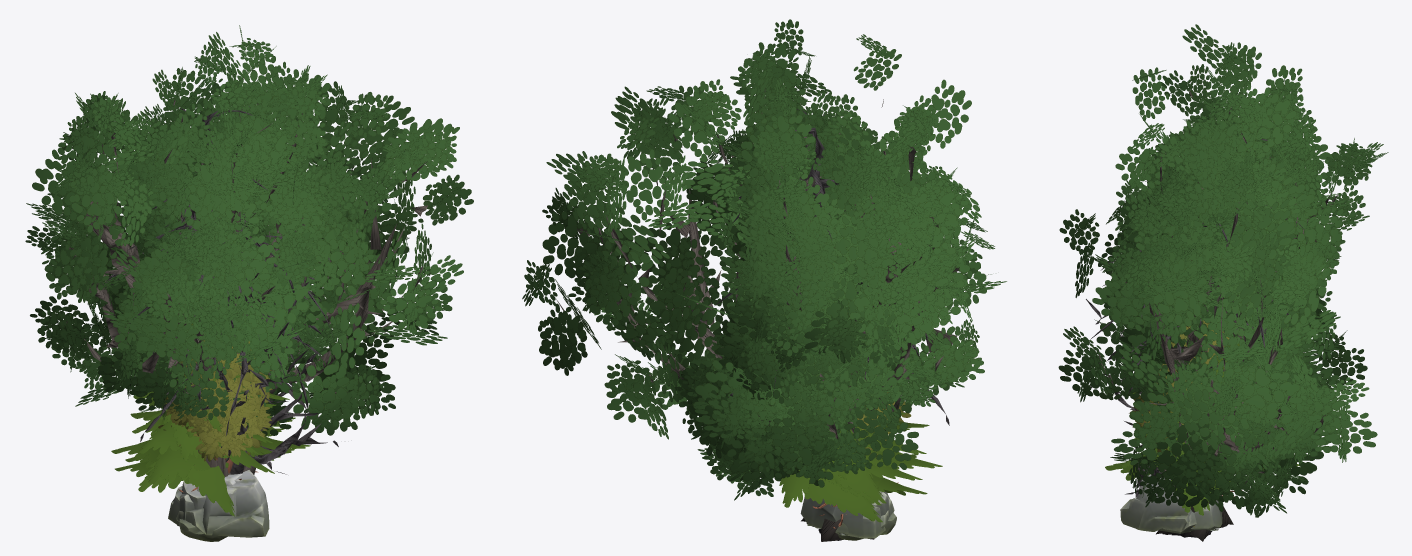
Rendered from kit_natura.glb.
3 renders of one model, left to right at view 1: azimuth 30°, elevation 25°; view 2: azimuth 150°, elevation 25°; view 3: azimuth 270°, elevation 25°, orthographic. The views are drawn at different scales.
Parts seen in each view (by area): view 1: TwistedTree_1, TwistedTree_2, TwistedTree_3, TwistedTree_4, TwistedTree_5, Pine_4, Rock_Medium_3, CommonTree_2, CommonTree_3, CommonTree_1, DeadTree_2, Pine_5 (+7 smaller); view 2: TwistedTree_1, TwistedTree_2, TwistedTree_4, TwistedTree_3, TwistedTree_5, Pine_5, Pine_4, Rock_Medium_2, DeadTree_5; view 3: TwistedTree_1, TwistedTree_3, TwistedTree_4, TwistedTree_2, TwistedTree_5, Rock_Medium_3, Rock_Medium_2.
Part boxes in pixels (<box>): TwistedTree_1: <box>141,61,473,525</box>; TwistedTree_2: <box>25,74,327,476</box>; TwistedTree_3: <box>51,95,395,474</box>; TwistedTree_4: <box>61,25,369,435</box>; TwistedTree_5: <box>87,99,359,362</box>; Pine_4: <box>111,323,295,492</box>; Rock_Medium_3: <box>179,470,269,541</box>; CommonTree_2: <box>164,361,271,473</box>; CommonTree_3: <box>177,340,272,438</box>; CommonTree_1: <box>158,370,271,461</box>; DeadTree_2: <box>179,273,327,474</box>; Pine_5: <box>115,375,310,492</box>; TwistedTree_1: <box>522,79,874,541</box>; TwistedTree_2: <box>715,19,1006,449</box>; TwistedTree_4: <box>690,42,940,485</box>; TwistedTree_3: <box>673,97,991,500</box>; TwistedTree_5: <box>693,113,918,526</box>; Pine_5: <box>779,430,927,522</box>; Pine_4: <box>822,390,942,528</box>; Rock_Medium_2: <box>800,491,885,538</box>; DeadTree_5: <box>700,105,949,425</box>; TwistedTree_1: <box>1058,151,1377,541</box>; TwistedTree_3: <box>1059,127,1369,537</box>; TwistedTree_4: <box>1079,64,1388,533</box>; TwistedTree_2: <box>1100,24,1341,533</box>; TwistedTree_5: <box>1116,127,1362,538</box>; Rock_Medium_3: <box>1120,474,1191,531</box>; Rock_Medium_2: <box>1191,495,1222,530</box>.
Size of the model in its own units: 18.68 by 19.3 by 12.76.
Materials: 11 (11 with a texture image).
